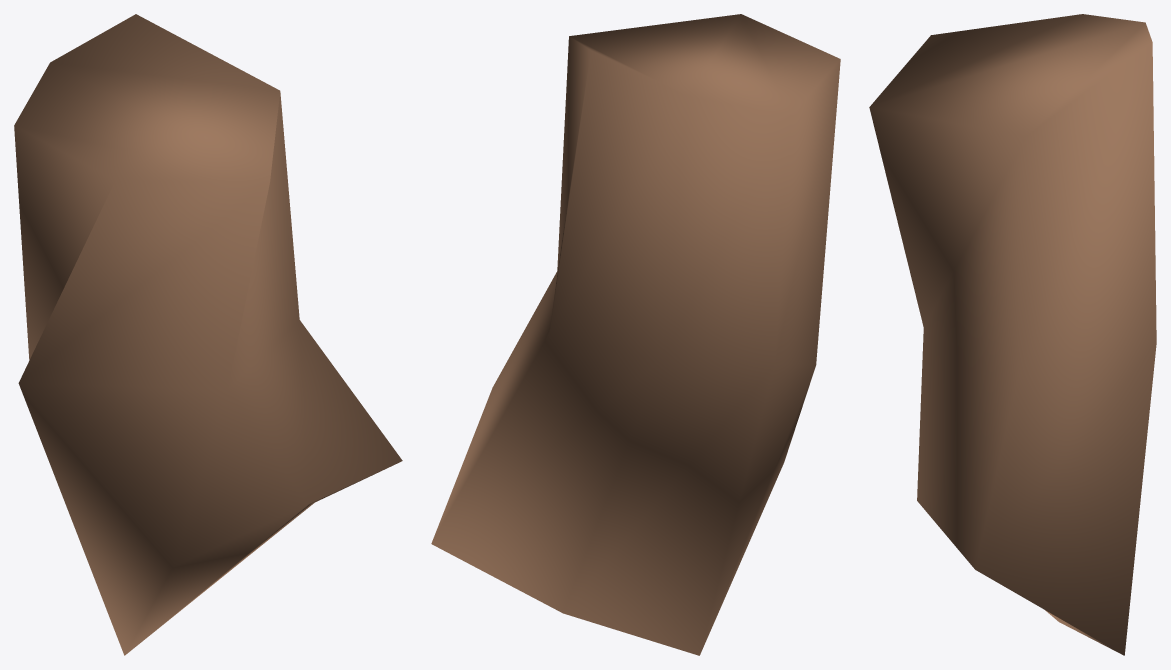
Rendered from Thumb.glb.
3 renders of one model, left to right at view 1: azimuth 30°, elevation 25°; view 2: azimuth 150°, elevation 25°; view 3: azimuth 270°, elevation 25°, orthographic. The views are drawn at different scales.
Visible parts, largest first — view 1: Thumb; view 2: Thumb; view 3: Thumb.
Part boxes in pixels (x1,y1,x2,y2): Thumb: [14, 14, 402, 655]; Thumb: [431, 14, 840, 655]; Thumb: [869, 14, 1156, 655].
Size of what is drawn, in the model's own units: 0.1547 by 0.2541 by 0.1088.
